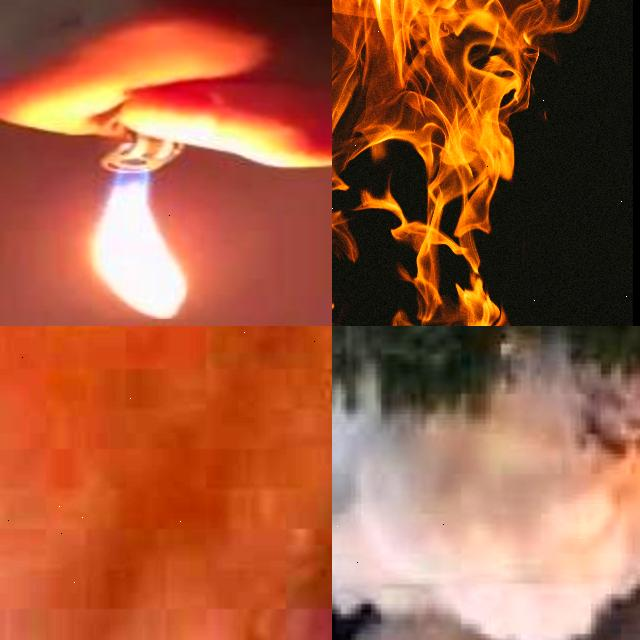fire: (332, 0, 588, 326), (92, 176, 186, 318)
smoke: (0, 326, 332, 640)
